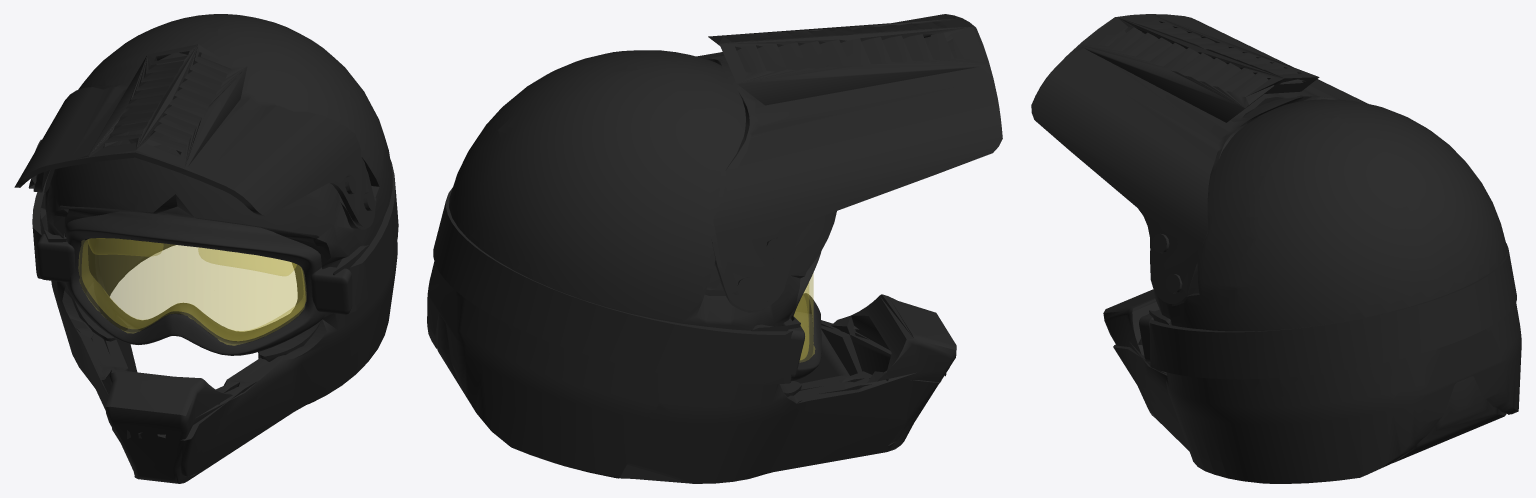
Rendered from dirtbike_helmet.glb.
The picture shows the model from 3 angles, left to right: view 1: azimuth 30°, elevation 25°; view 2: azimuth 150°, elevation 25°; view 3: azimuth 270°, elevation 25°; orthographic projection. The views are drawn at different scales.
Visible parts, largest first — view 1: Object_3, Object_2; view 2: Object_3, Object_2; view 3: Object_3.
Boxes of the visible parts, box(x1,y1,x2,y2) form: Object_3: box(14, 14, 398, 483); Object_2: box(78, 238, 306, 345); Object_3: box(427, 14, 1002, 483); Object_2: box(794, 273, 814, 362); Object_3: box(1031, 14, 1521, 483).
Size of the model in its own units: 25.18 by 21.1 by 24.88.
